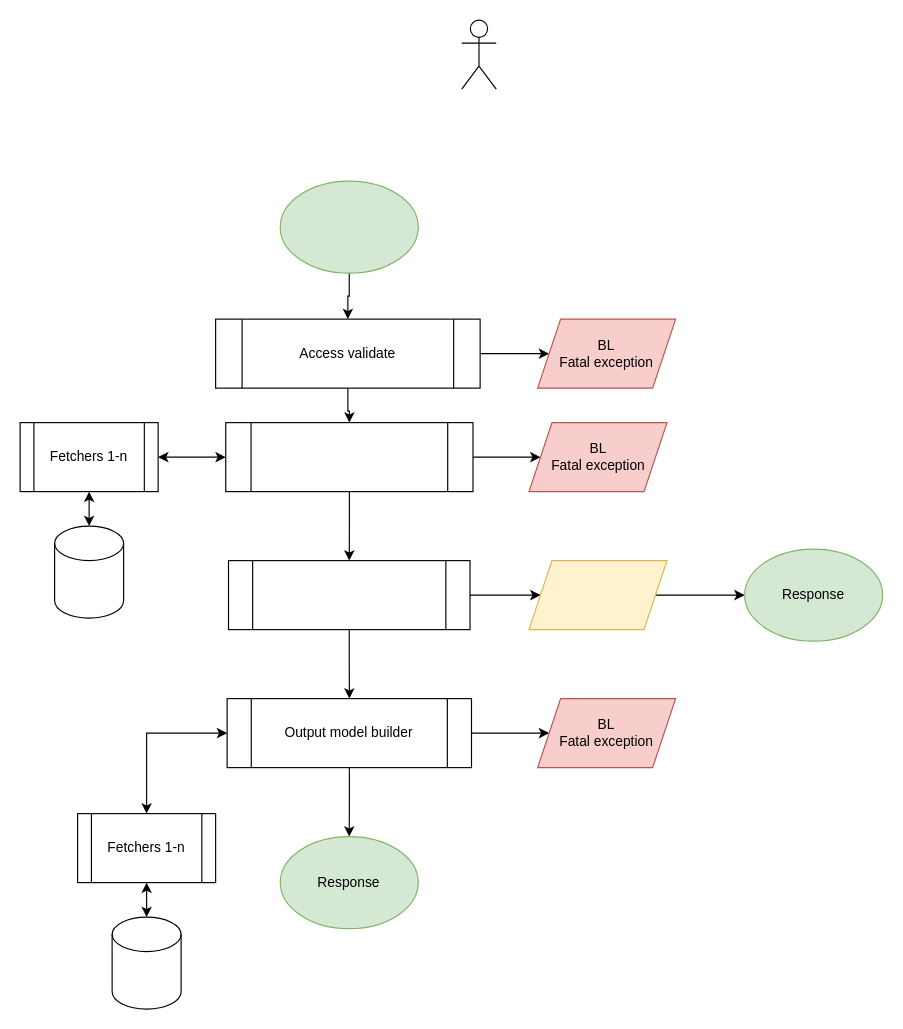
Image size: 903x1029. Some labels were removed from this diagram. The centre of each missing label's shape, as x and y in pixels:
Actor: [478,54]
Error: [597,594]
Input model builder: [349,456]
Input params simple validate: [348,594]
Web Request: [348,226]
